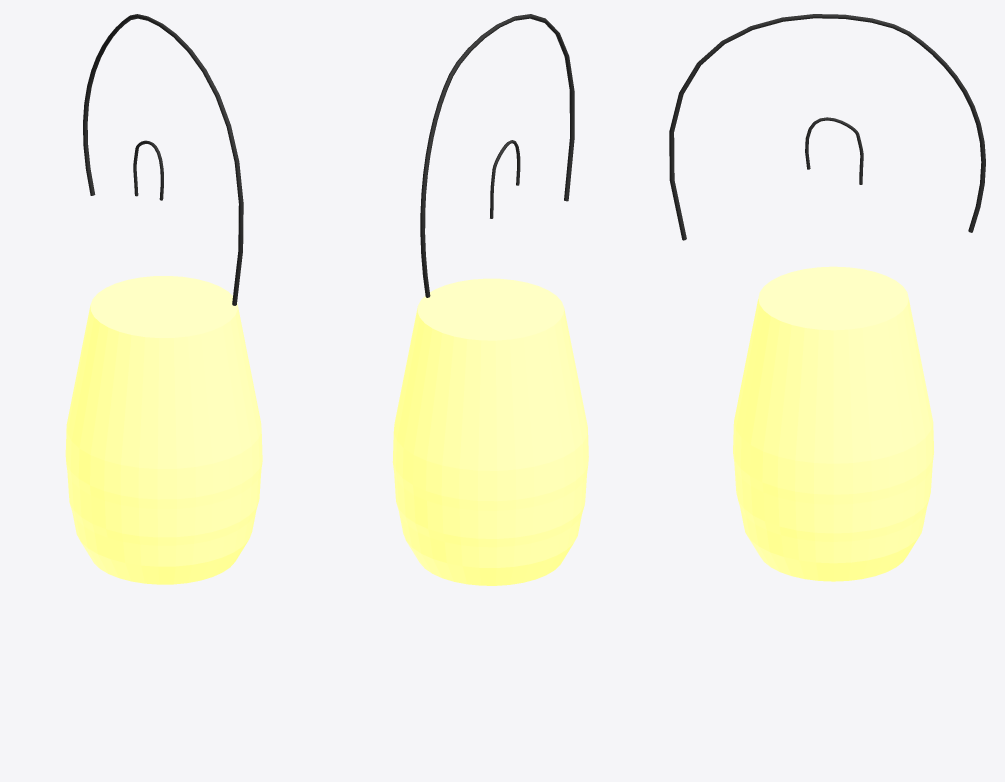
The model's file is LanternTextured.fbx.
The picture shows the model from 3 angles, left to right: view 1: azimuth 30°, elevation 25°; view 2: azimuth 150°, elevation 25°; view 3: azimuth 270°, elevation 25°; orthographic projection. The views are drawn at different scales.
Visible parts, largest first — view 1: Cylinder.001, BézierCurve.001; view 2: Cylinder.001, BézierCurve.001, BézierCurve; view 3: Cylinder.001, BézierCurve.001, BézierCurve.
Part boxes in pixels (bbox=[...]): Cylinder.001: bbox=[65, 276, 262, 584]; BézierCurve.001: bbox=[83, 14, 243, 305]; Cylinder.001: bbox=[392, 278, 588, 585]; BézierCurve.001: bbox=[420, 14, 574, 297]; BézierCurve: bbox=[490, 140, 520, 218]; Cylinder.001: bbox=[733, 266, 933, 581]; BézierCurve.001: bbox=[669, 14, 985, 240]; BézierCurve: bbox=[805, 117, 863, 184].
Size of the model in its own units: 113 by 282 by 119.
